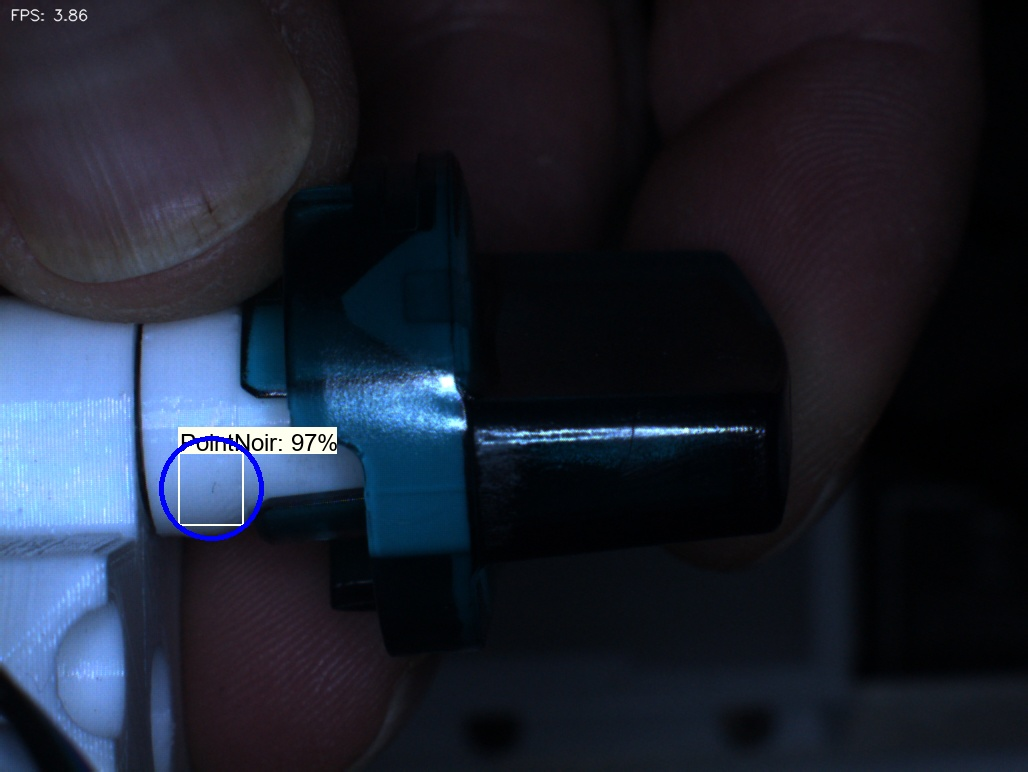DentOk: (314, 262, 380, 349)
